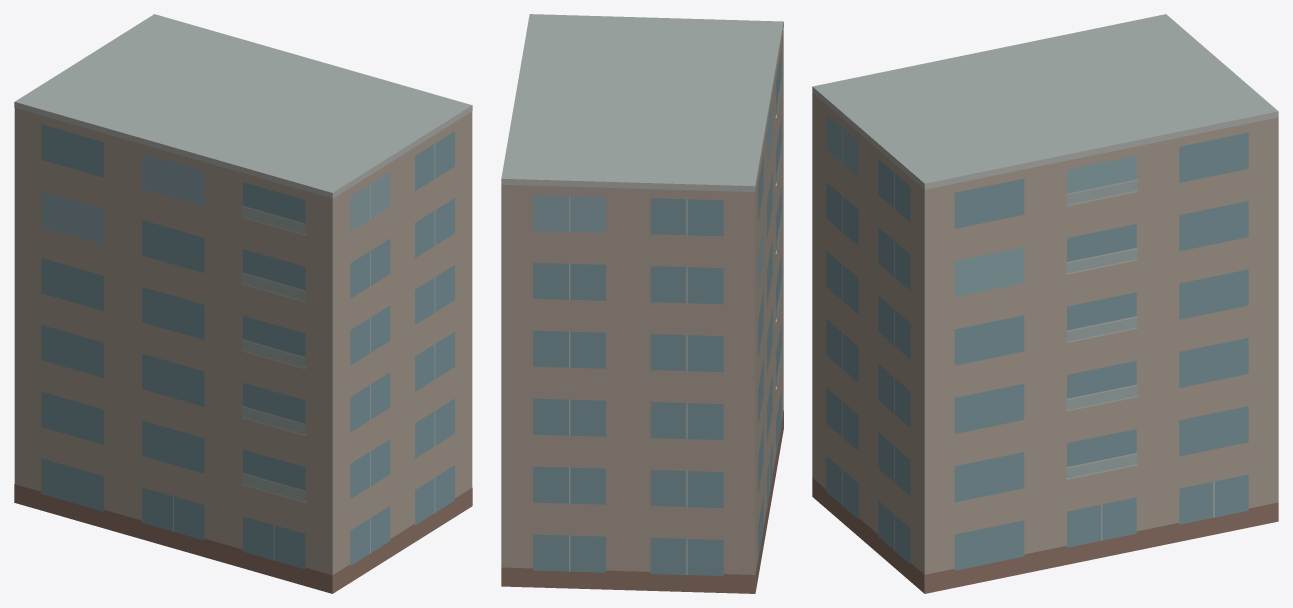
Rendered from survey-upis-32744142.glb.
3 views of the same model, side by side, from view 1: azimuth 30°, elevation 25°; view 2: azimuth 150°, elevation 25°; view 3: azimuth 270°, elevation 25° (orthographic). The views are drawn at different scales.
Parts seen in each view (by area): view 1: survey-upis-32744142.tmp; view 2: survey-upis-32744142.tmp; view 3: survey-upis-32744142.tmp.
Boxes of the visible parts, x1,y1,x2,y2 form: survey-upis-32744142.tmp: (14, 14, 472, 593); survey-upis-32744142.tmp: (501, 14, 783, 593); survey-upis-32744142.tmp: (812, 14, 1278, 593).
Bounding box in the file's own units: 14.74 × 16.6 × 17.11.
